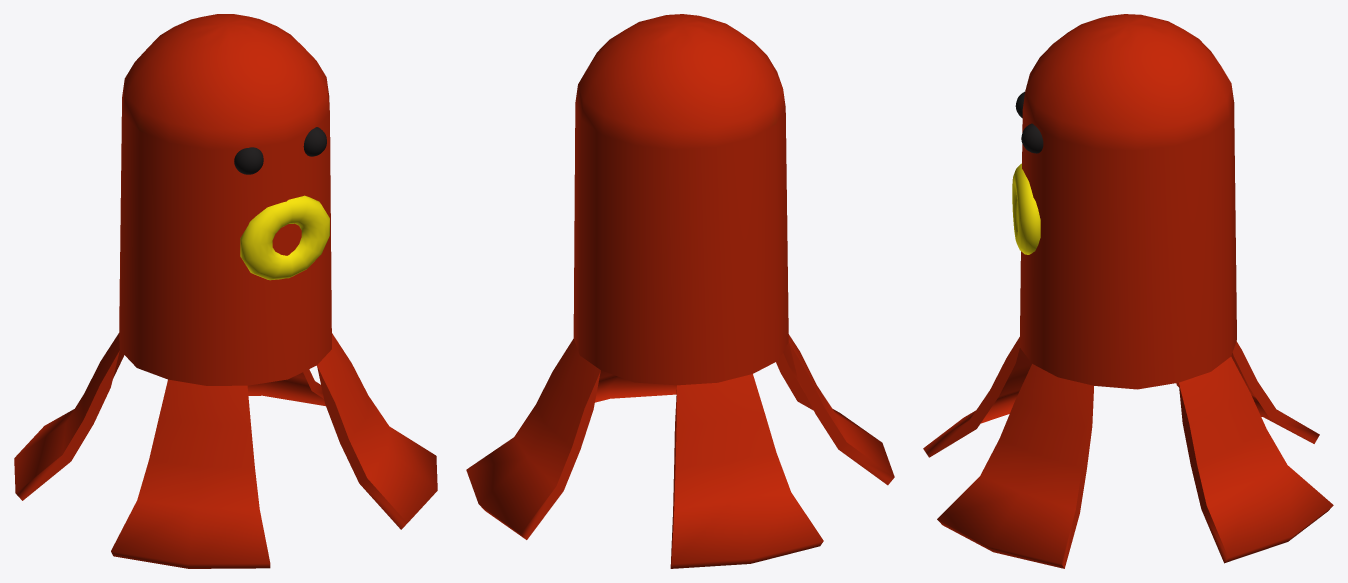
File: Aseet_06_01_TakoWiener.fbx
3 renders of one model, left to right at view 1: azimuth 30°, elevation 25°; view 2: azimuth 150°, elevation 25°; view 3: azimuth 270°, elevation 25°, orthographic.
Parts seen in each view (by area): view 1: SK_06_01_TakoWiener; view 2: SK_06_01_TakoWiener; view 3: SK_06_01_TakoWiener.
Boxes of the visible parts, box(x1,y1,x2,y2) form: SK_06_01_TakoWiener: box(14, 14, 437, 568); SK_06_01_TakoWiener: box(466, 14, 894, 568); SK_06_01_TakoWiener: box(923, 14, 1333, 568).
Bounding box in the file's own units: 0.23 × 0.2844 × 0.23.
1 material, 1 textured.
